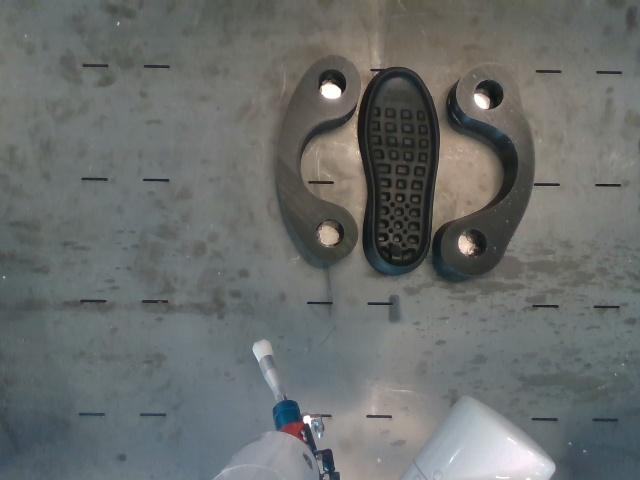shoes: (366, 70, 437, 266)
